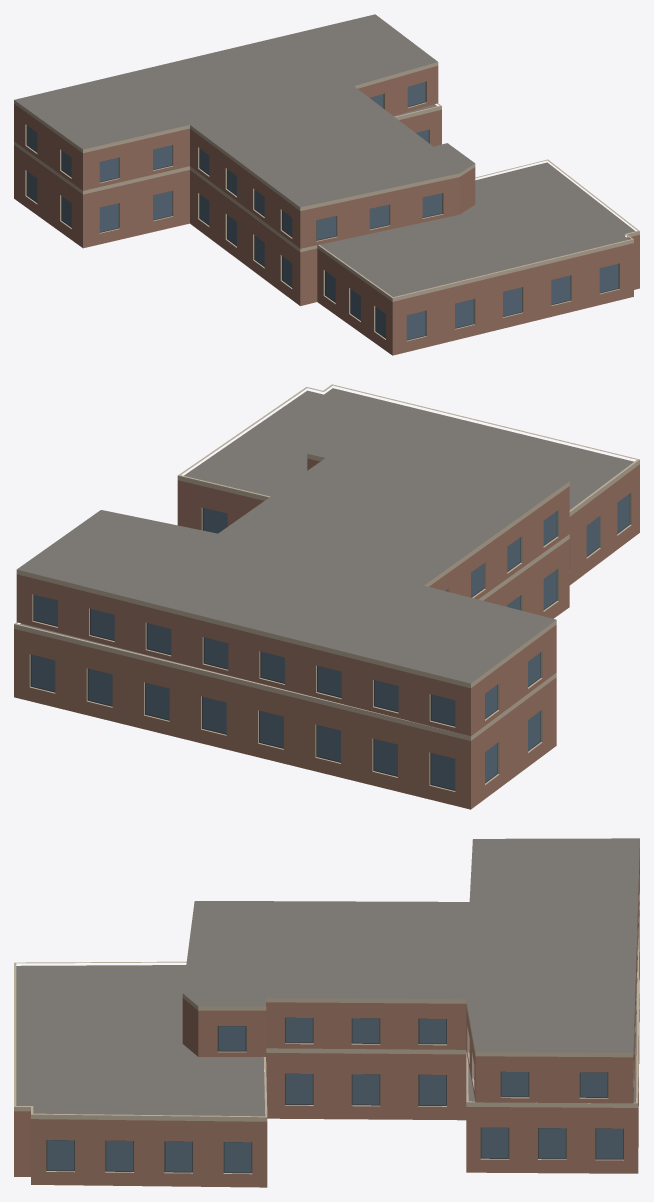
The model's file is dc-au-media-production-center.detail.glb.
3 renders of one model, top to bottom at view 1: azimuth 30°, elevation 25°; view 2: azimuth 150°, elevation 25°; view 3: azimuth 270°, elevation 25°, orthographic. The views are drawn at different scales.
Visible parts, largest first — view 1: Media Production Center; view 2: Media Production Center; view 3: Media Production Center.
Part boxes in pixels (<box>): Media Production Center: <box>14,14,639,355</box>; Media Production Center: <box>14,384,639,809</box>; Media Production Center: <box>14,838,639,1187</box>.
Bounding box in the file's own units: 34.8 × 8.6 × 40.34.
